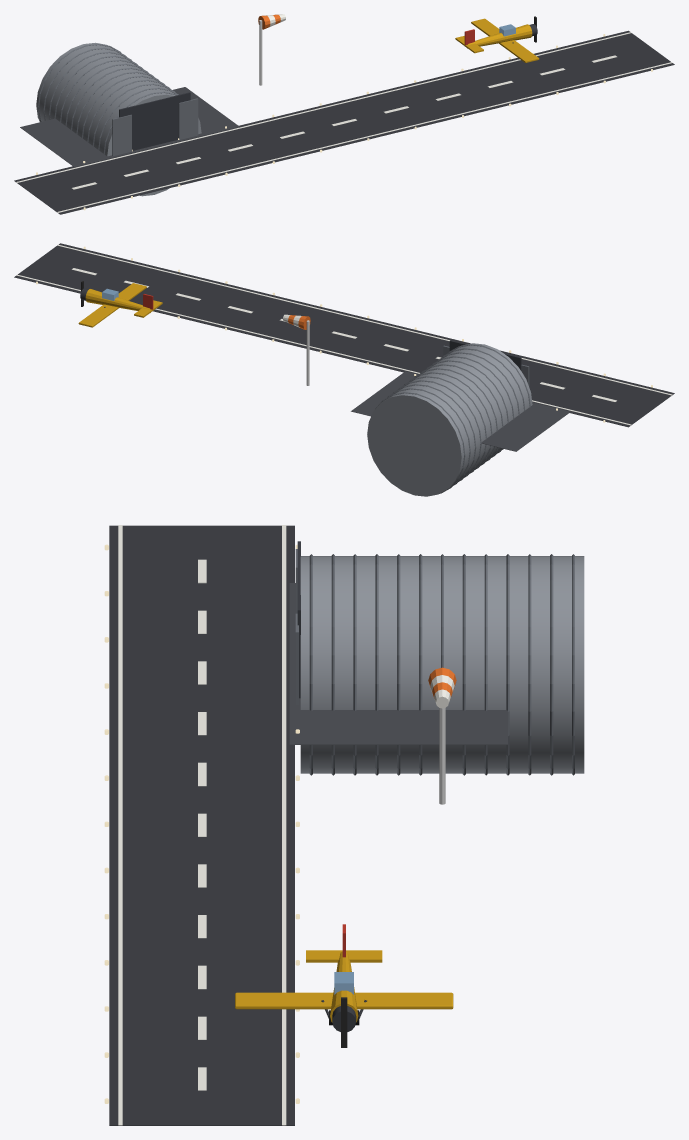
File: airfield.glb
The picture shows the model from 3 angles, top to bottom: view 1: azimuth 30°, elevation 25°; view 2: azimuth 150°, elevation 25°; view 3: azimuth 270°, elevation 25°; orthographic projection. The views are drawn at different scales.
Parts seen in each view (by area): view 1: part-tarmac, part-hangar, part-paint, part-apron, part-hangar-rib, part-hangar-door, part-door-panel, part-plane; view 2: part-tarmac, part-hangar, part-hangar-rib, part-apron, part-paint, part-plane; view 3: part-tarmac, part-hangar, part-hangar-rib, part-paint, part-apron, part-plane.
Part boxes in pixels (x1,y1,x2,y2): part-tarmac: (14, 30, 674, 214); part-hangar: (36, 42, 201, 196); part-paint: (16, 14, 672, 212); part-apron: (20, 87, 239, 166); part-hangar-rib: (38, 43, 178, 154); part-hangar-door: (119, 92, 190, 150); part-door-panel: (112, 98, 198, 156); part-plane: (455, 18, 539, 62); part-tarmac: (14, 243, 674, 427); part-hangar: (367, 343, 532, 496); part-hangar-rib: (375, 344, 530, 493); part-apron: (351, 371, 570, 451); part-paint: (16, 244, 672, 425); part-plane: (78, 283, 162, 327); part-tarmac: (109, 525, 294, 1125); part-hangar: (300, 556, 584, 773); part-hangar-rib: (309, 554, 574, 775); part-paint: (118, 525, 454, 1125); part-apron: (289, 583, 507, 744); part-plane: (235, 950, 453, 1022).
Size of the model in its own units: 260 by 48 by 87.89.
